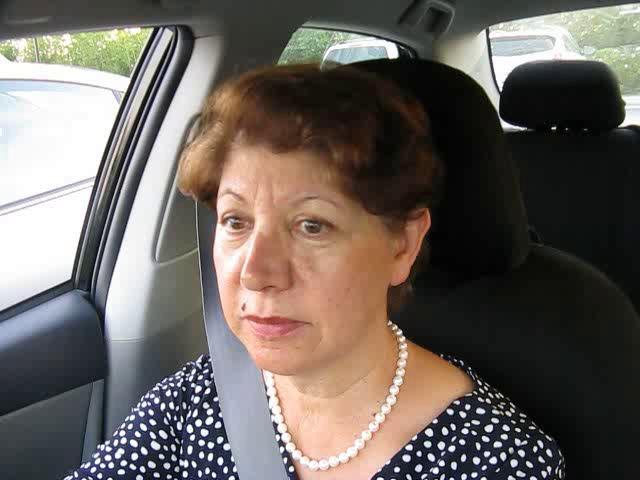no_yawn: (227, 297, 320, 348)
open_eyeL: (207, 205, 263, 245)
open_eyeR: (279, 205, 350, 251)
